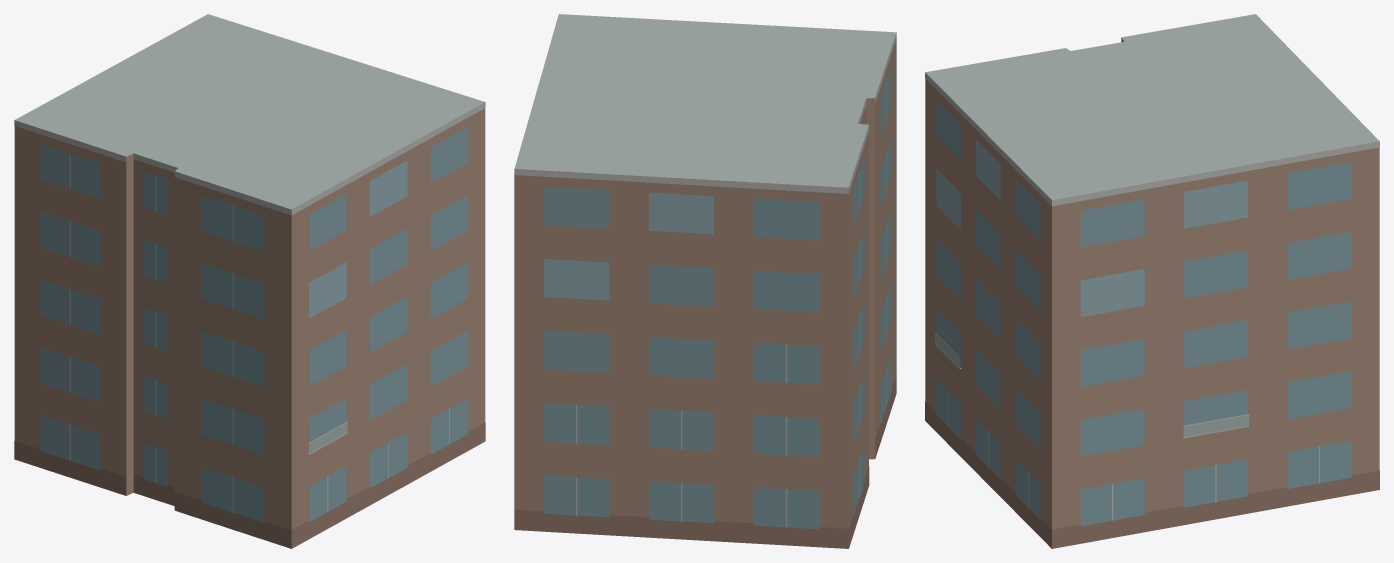
Rendered from survey-upis-32791344.glb.
3 views of the same model, side by side, from view 1: azimuth 30°, elevation 25°; view 2: azimuth 150°, elevation 25°; view 3: azimuth 270°, elevation 25° (orthographic). The views are drawn at different scales.
Visible parts, largest first — view 1: survey-upis-32791344.tmp; view 2: survey-upis-32791344.tmp; view 3: survey-upis-32791344.tmp.
Boxes of the visible parts, bbox=[...] form: survey-upis-32791344.tmp: bbox=[14, 14, 485, 548]; survey-upis-32791344.tmp: bbox=[514, 14, 896, 548]; survey-upis-32791344.tmp: bbox=[925, 14, 1379, 548].
Size of the model in its own units: 16.29 by 14.2 by 16.8.
